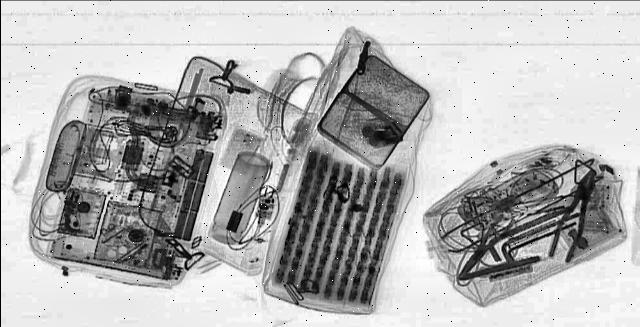Pliers: (541, 168, 601, 262), (446, 212, 522, 276)
